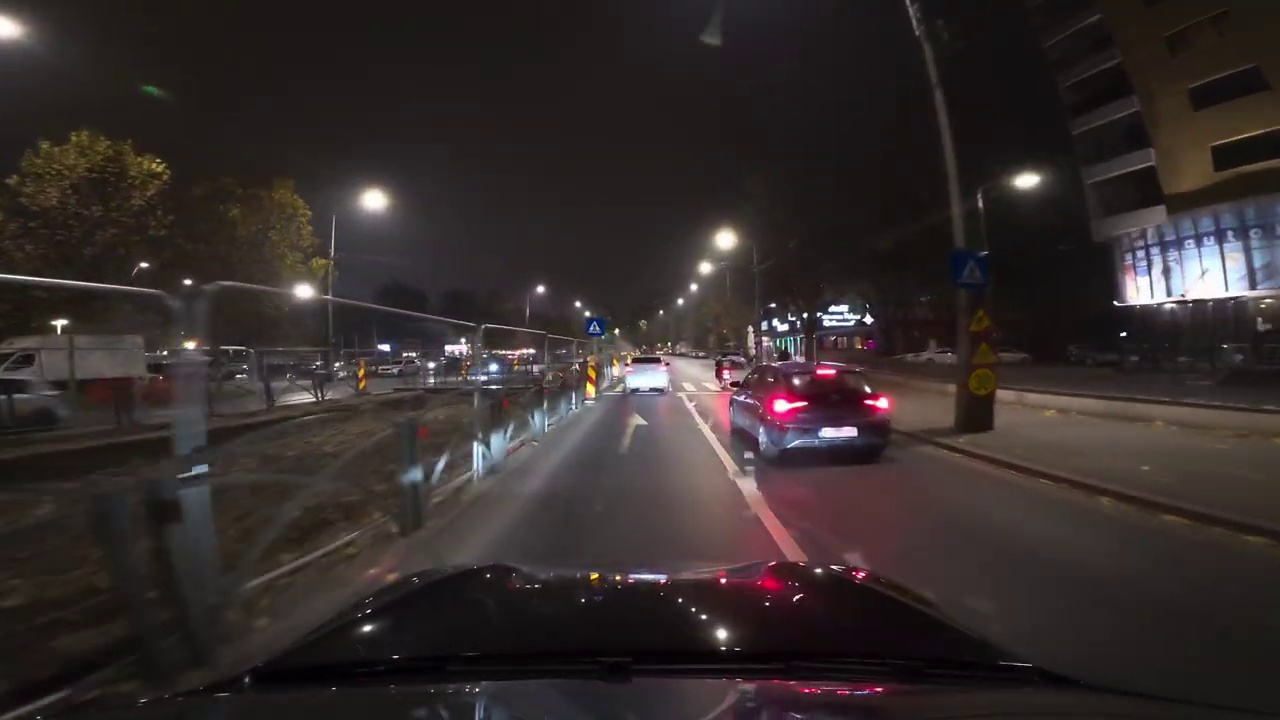acesa: (698, 224, 741, 274), (356, 186, 391, 215), (1009, 169, 1043, 194), (710, 226, 740, 252), (0, 13, 25, 43), (291, 281, 318, 303), (693, 259, 717, 281), (529, 280, 550, 301)
